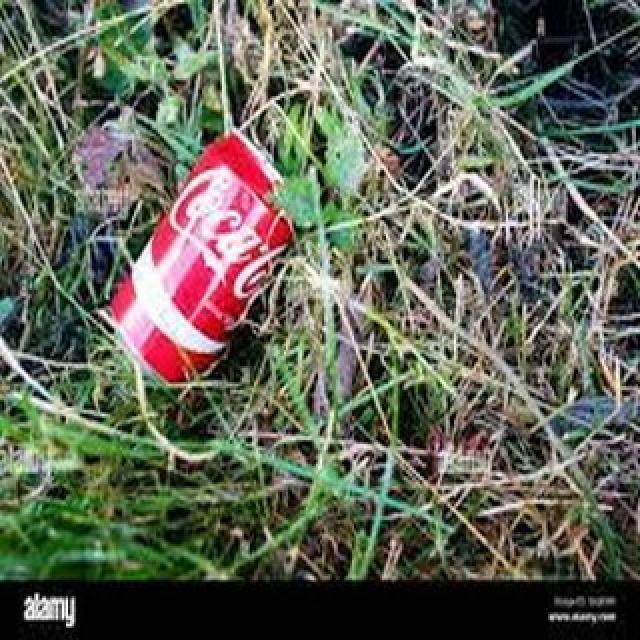recyclable: (98, 132, 299, 392)
